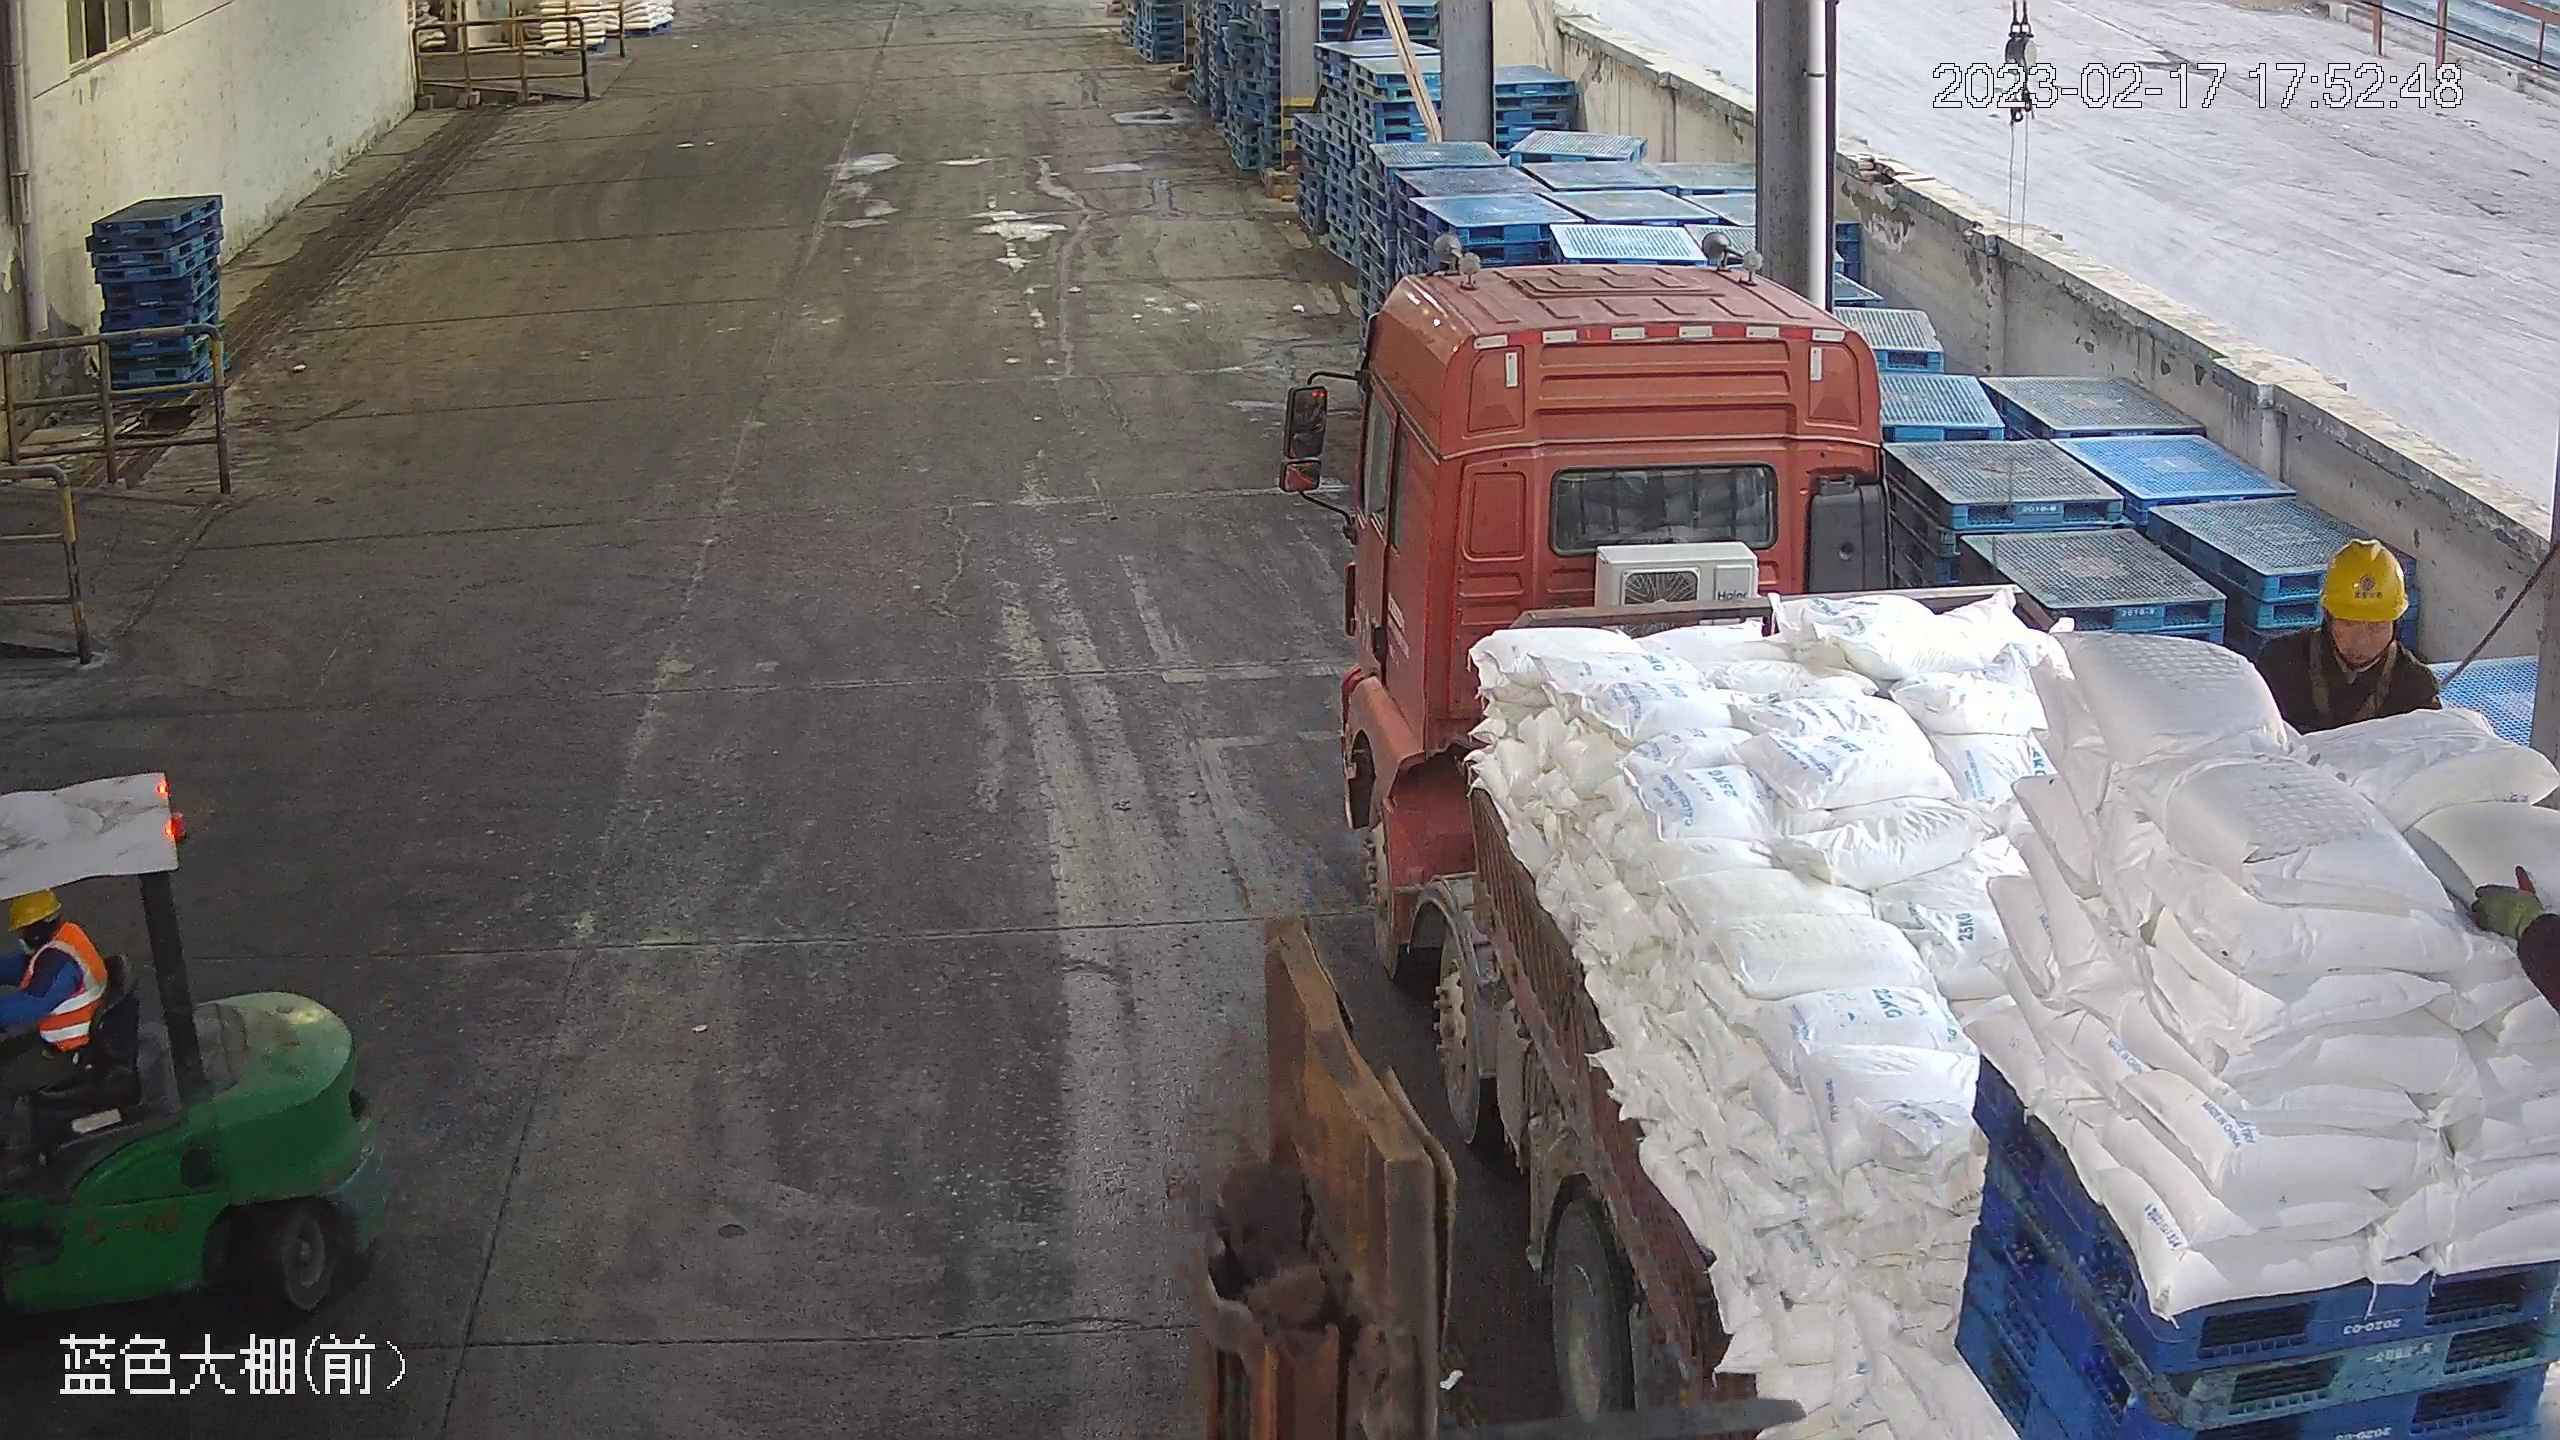belt: (2304, 622, 2399, 730)
head: (2262, 531, 2443, 707), (8, 890, 107, 998)
helmet: (2319, 532, 2411, 626), (9, 890, 61, 931)
people: (1, 889, 108, 1134)
truck: (1272, 233, 2560, 1440)
